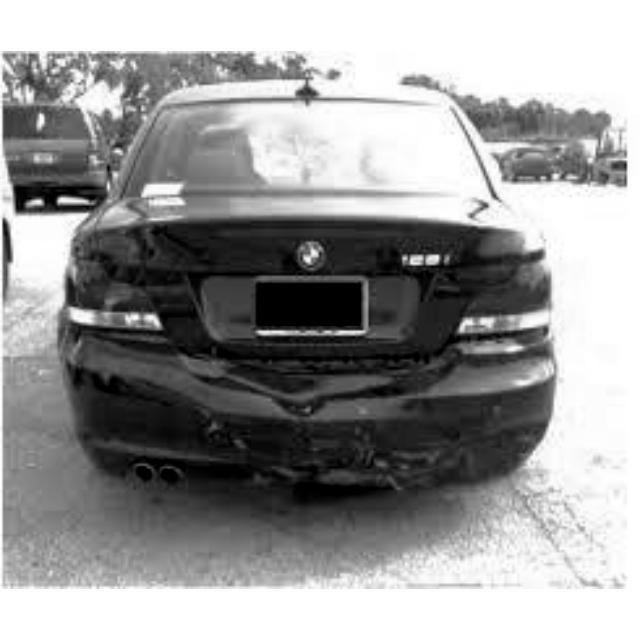rear-bumper-dent: (100, 357, 531, 495)
